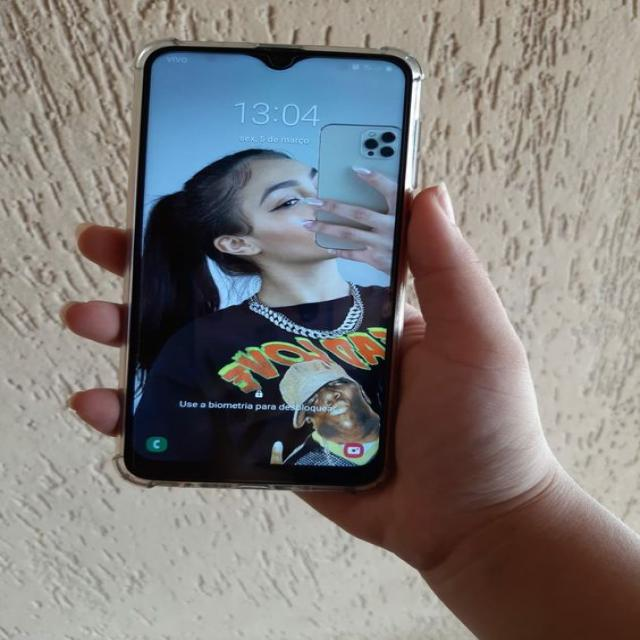phone: (112, 31, 424, 503)
